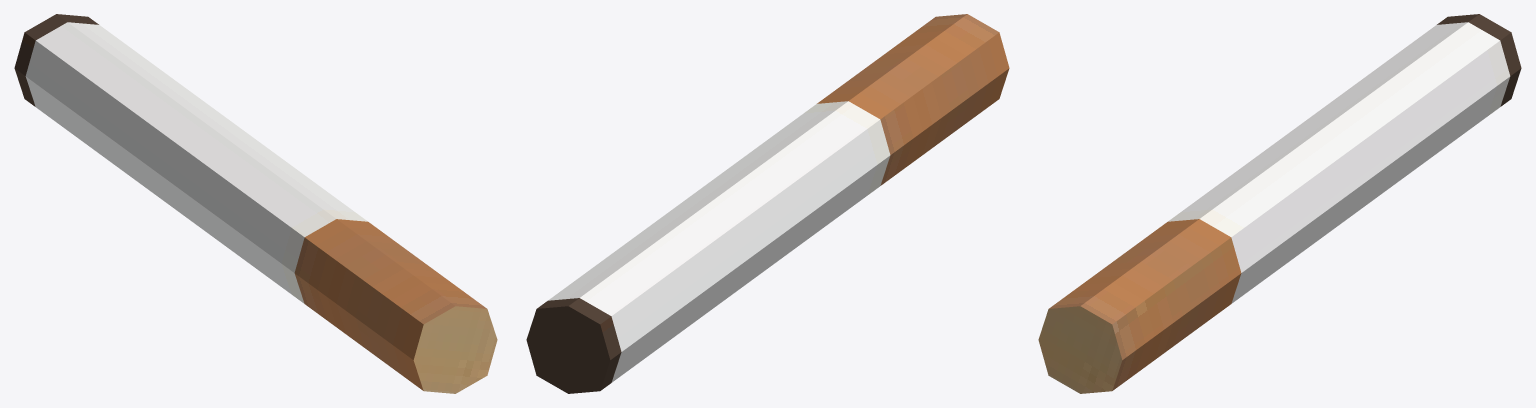
Rendered from CHAHIN_CIGARETTE_BUTT.obj.
3 renders of one model, left to right at view 1: azimuth 30°, elevation 25°; view 2: azimuth 150°, elevation 25°; view 3: azimuth 330°, elevation 25°, orthographic.
Visible parts, largest first — view 1: Cube.003_Cube.024; view 2: Cube.003_Cube.024; view 3: Cube.003_Cube.024.
Boxes of the visible parts, bbox=[...] form: Cube.003_Cube.024: bbox=[14, 14, 497, 393]; Cube.003_Cube.024: bbox=[526, 14, 1009, 393]; Cube.003_Cube.024: bbox=[1038, 14, 1521, 393].
Bounding box in the file's own units: 0.1126 × 0.1126 × 0.9279.
Materials: 1 (1 with a texture image).
